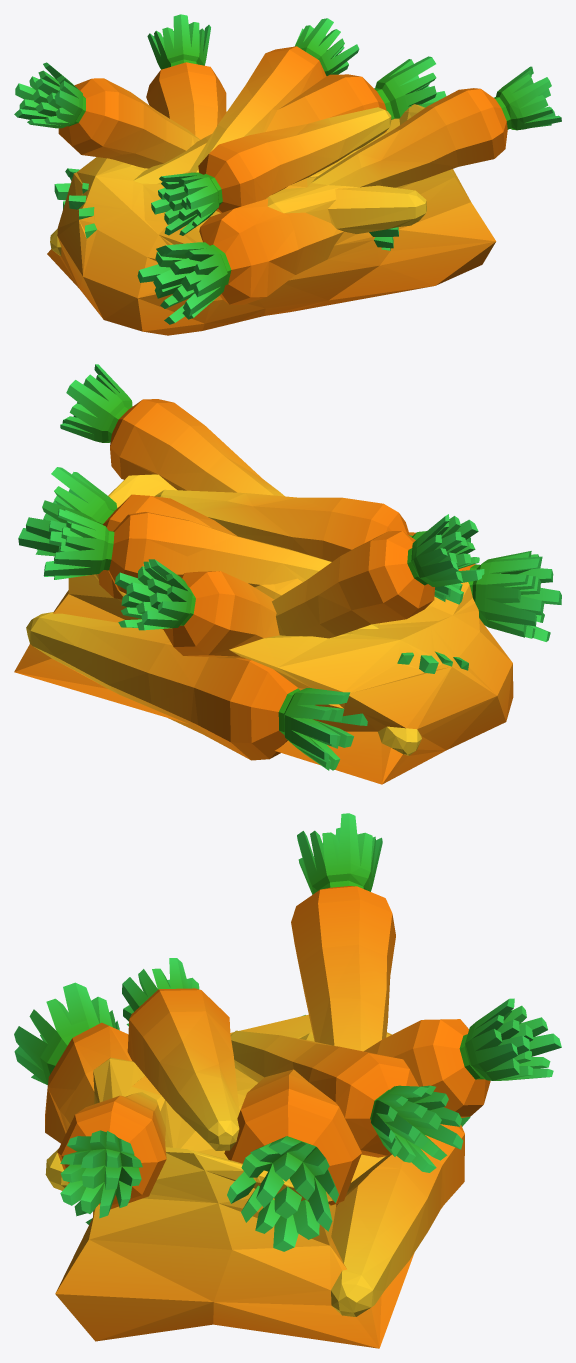
Rendered from carrots_pile.fbx.
3 views of the same model, one above another, from view 1: azimuth 30°, elevation 25°; view 2: azimuth 150°, elevation 25°; view 3: azimuth 270°, elevation 25° (orthographic). The views are drawn at different scales.
Parts seen in each view (by area): view 1: carrots_pile; view 2: carrots_pile; view 3: carrots_pile.
Part boxes in pixels (x1,y1,x2,y2): carrots_pile: (14,14,561,335); carrots_pile: (14,364,561,784); carrots_pile: (14,813,561,1348).
Size of the model in its own units: 475 by 244 by 367.
